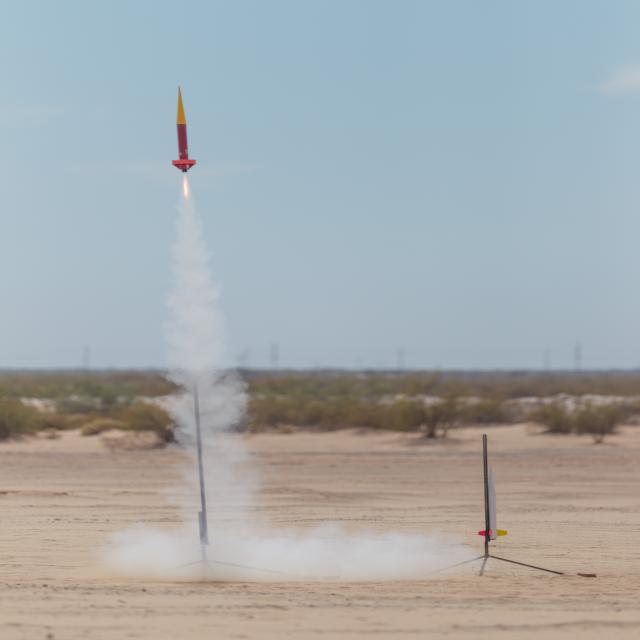Rocket: (170, 85, 198, 172)
